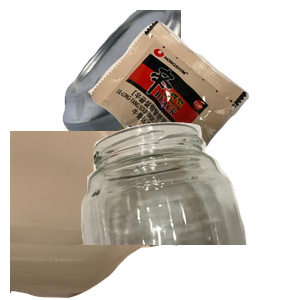glass: (74, 120, 300, 300)
metal: (60, 10, 300, 190)
plastic: (10, 131, 196, 300)
trash: (86, 18, 300, 194)
